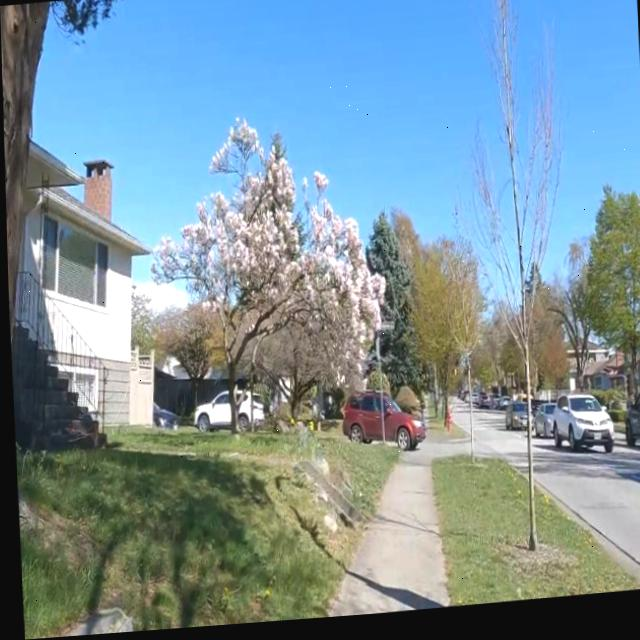Automobile: (339, 397, 422, 455), (547, 403, 609, 461), (191, 394, 228, 433), (233, 382, 259, 432), (622, 397, 640, 454), (531, 411, 552, 445), (150, 404, 173, 430), (502, 405, 521, 436)
Road: (531, 446, 640, 576), (476, 430, 517, 473)
Sidewalk: (324, 456, 444, 622)
